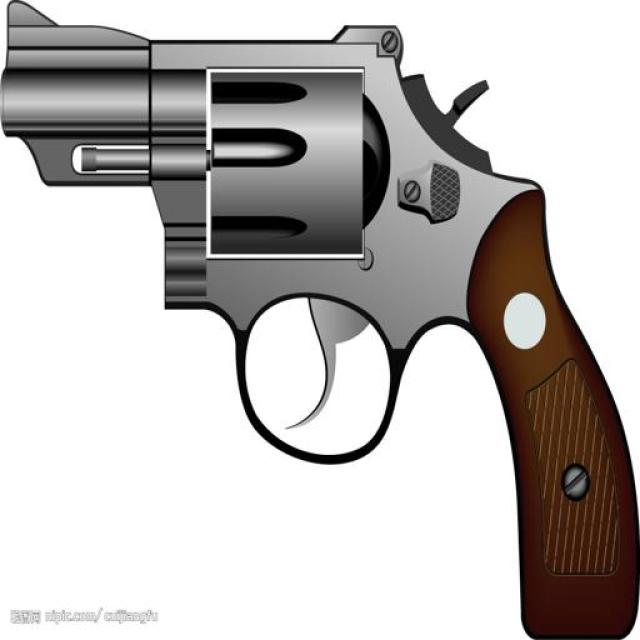pistol: (6, 1, 640, 636)
